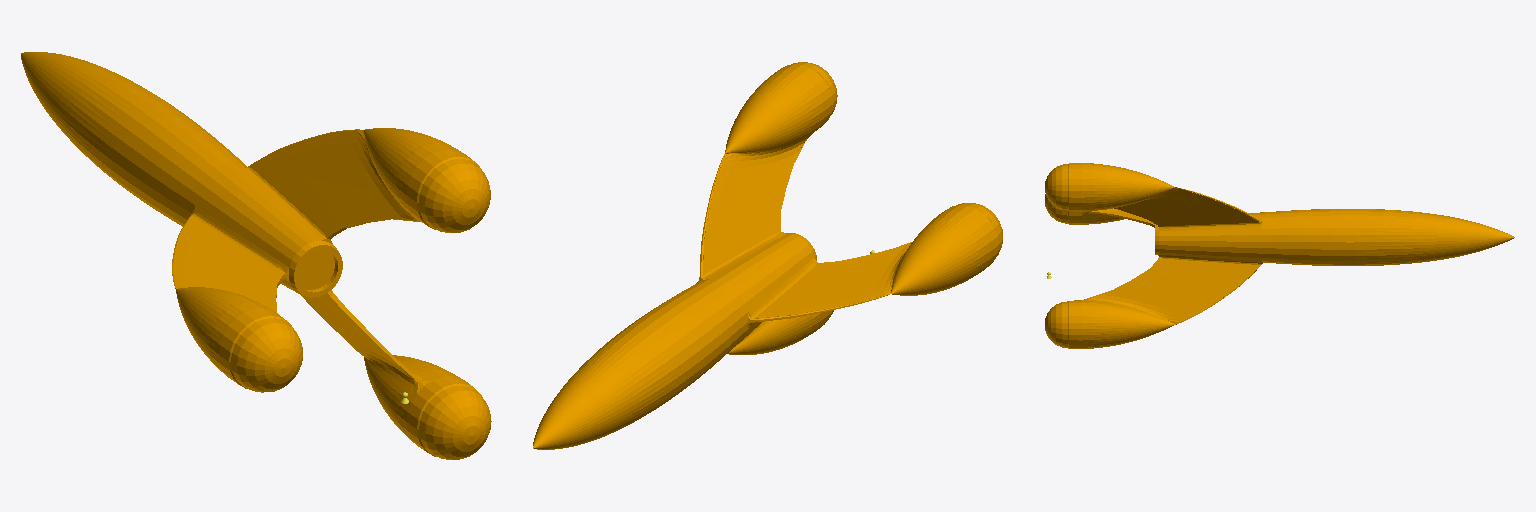
robot.urdf — lunar_rocket:
<?xml version="1.0"?>
<robot name="lunar_rocket">

  <!-- === Rocket body === -->
  <link name="base_link">
    <inertial>
      <origin xyz="0 0 1" rpy="0 0 0"/>
      <mass value="2000"/>
      <inertia ixx="800" iyy="800" izz="200"/>
    </inertial>
    <visual>
      <geometry>
        <mesh filename="meshes/tintin_rocket.obj" scale="1 1 1"/>
      </geometry>
    </visual>
    <collision>
      <geometry>
        <mesh filename="meshes/tintin_rocket.obj" scale="1 1 1"/>
      </geometry>
    </collision>
  </link>

  <!-- === Pitch frame === -->
  <link name="pitch_frame">
    <inertial>
      <mass value="1e-3"/>
      <inertia ixx="1e-6" iyy="1e-6" izz="1e-6"/>
    </inertial>
  </link>

  <!-- === Yaw frame === -->
  <link name="yaw_frame">
    <inertial>
      <mass value="1e-3"/>
      <inertia ixx="1e-6" iyy="1e-6" izz="1e-6"/>
    </inertial>
  </link>

  <!-- === Engine === -->
  <link name="engine_link">
    <inertial>
      <origin xyz="0 0 -2" rpy="0 0 0"/>
      <mass value="200"/>
      <inertia ixx="10" iyy="10" izz="5"/>
    </inertial>
    <visual>
      <geometry>
        <mesh filename="meshes/simplified_engine.obj" scale="1 1 1"/>
      </geometry>
    </visual>
    <collision>
      <geometry>
        <mesh filename="meshes/simplified_engine.obj" scale="1 1 1"/>
      </geometry>
    </collision>
  </link>

  <!-- === Joint 1: Pitch (around X-axis) === -->
  <joint name="pitch_joint" type="revolute">
    <parent link="base_link"/>
    <child link="pitch_frame"/>
    <origin xyz="0 0 -1.8" rpy="0 0 0"/>  <!-- gimbal mount point -->
    <axis xyz="1 0 0"/>  <!-- rotate around X -->
    <limit lower="-0.2" upper="0.2" effort="500" velocity="1.0"/>
    <dynamics damping="0.1"/>
  </joint>

  <!-- === Joint 2: Yaw (around Y-axis) === -->
  <joint name="yaw_joint" type="revolute">
    <parent link="pitch_frame"/>
    <child link="yaw_frame"/>
    <origin xyz="0 0 0" rpy="0 0 0"/>
    <axis xyz="0 1 0"/>  <!-- rotate around Y -->
    <limit lower="-0.2" upper="0.2" effort="500" velocity="1.0"/>
    <dynamics damping="0.1"/>
  </joint>

  <!-- === Fixed joint: Engine to yaw frame === -->
  <joint name="engine_mount" type="fixed">
    <parent link="yaw_frame"/>
    <child link="engine_link"/>
    <origin xyz="0 0 -0.2" rpy="0 0 0"/>
  </joint>

</robot>

--- Render facts (derived) ---
Views: 3 orthographic renders of the robot side by side, from view 1: azimuth 30°, elevation 25°; view 2: azimuth 150°, elevation 25°; view 3: azimuth 270°, elevation 25°.
Robot: lunar_rocket — 4 links, 3 joints (2 revolute, 1 fixed); root link base_link; default pose: all joints at 0.
Visible links, largest first — view 1: base_link; view 2: base_link; view 3: base_link.
Boxes of the visible links, box(x1,y1,x2,y2) form: base_link: box(21, 52, 491, 459); base_link: box(533, 62, 1002, 449); base_link: box(1045, 163, 1514, 348).
Bounding box of the posed robot: 371 × 968 × 412 m (x, y, z).
Meshes: 2 distinct files referenced, 2 mesh visuals loaded (2 OBJ).
